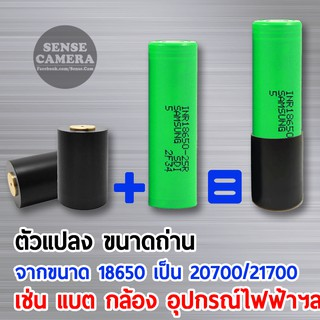Battery: (249, 15, 305, 214), (143, 36, 201, 212), (56, 120, 110, 213), (5, 147, 59, 209)
